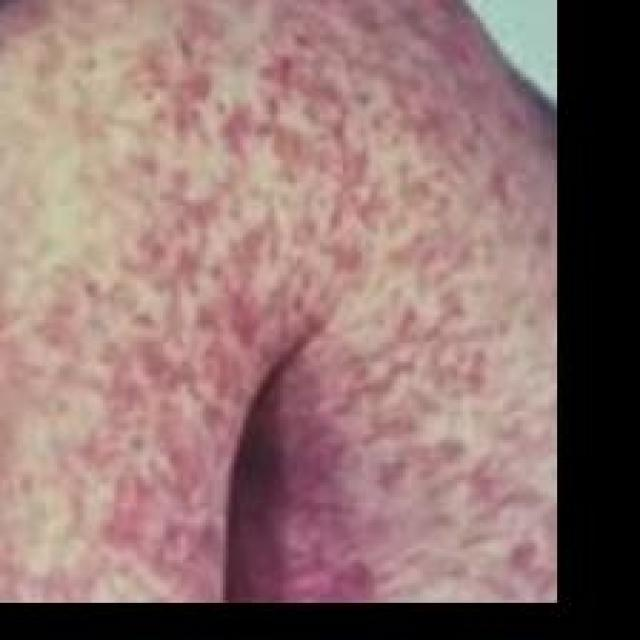others: (0, 0, 564, 626)
